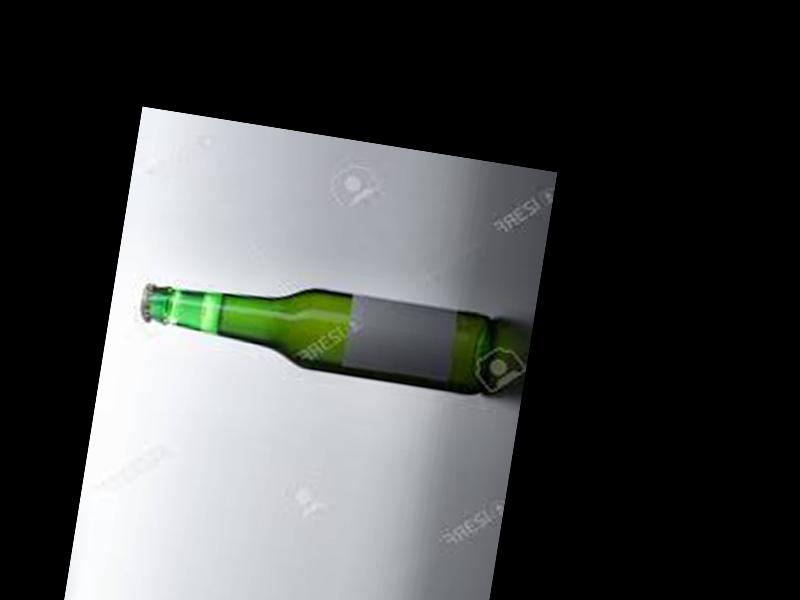Beer: (135, 260, 496, 397)
